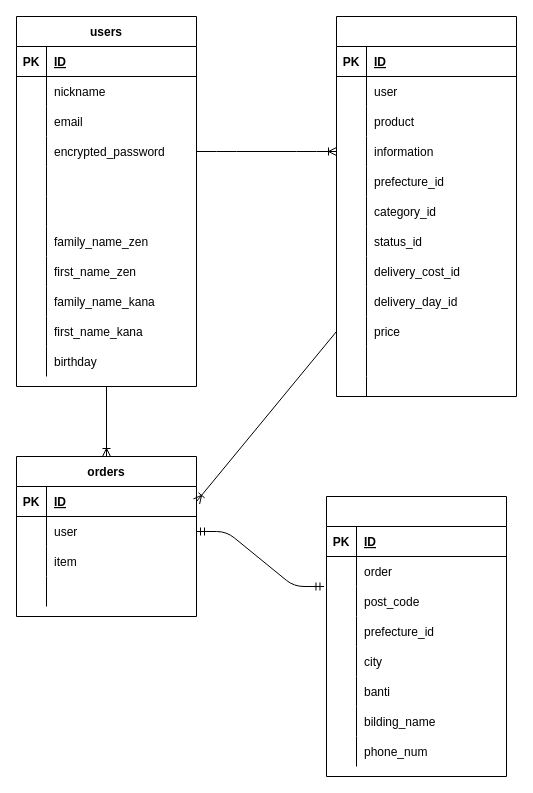
Some shapes in this 533 by 793 pixel diagram are drawn without their labels. Here are the shapes that lost their labels. From the top down, the box of each, then its label:
(336, 16, 516, 396): items
(326, 496, 506, 776): addressbooks
